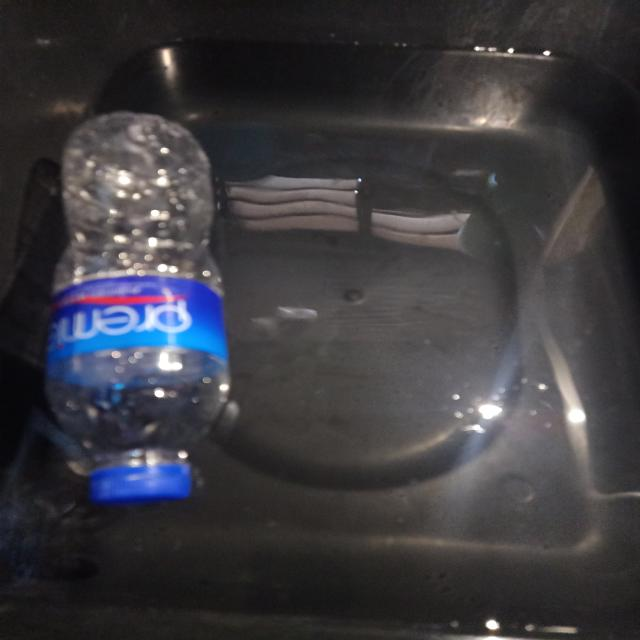Plastic Bottle: (45, 112, 230, 502)
